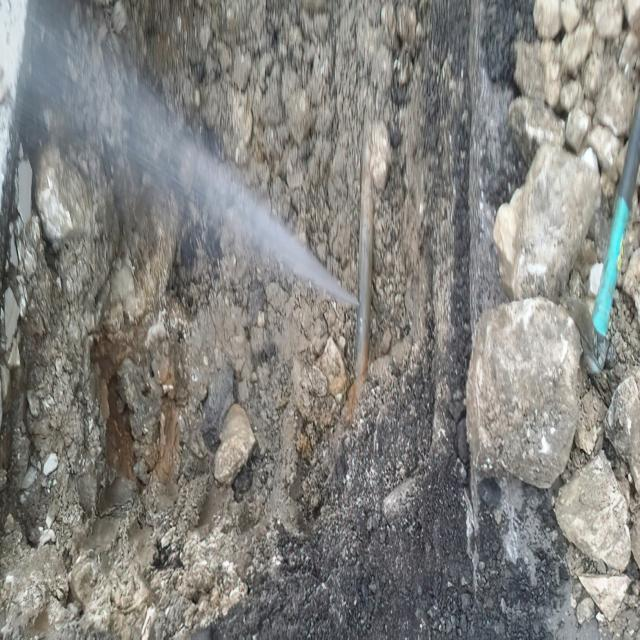leak: (18, 0, 359, 307)
